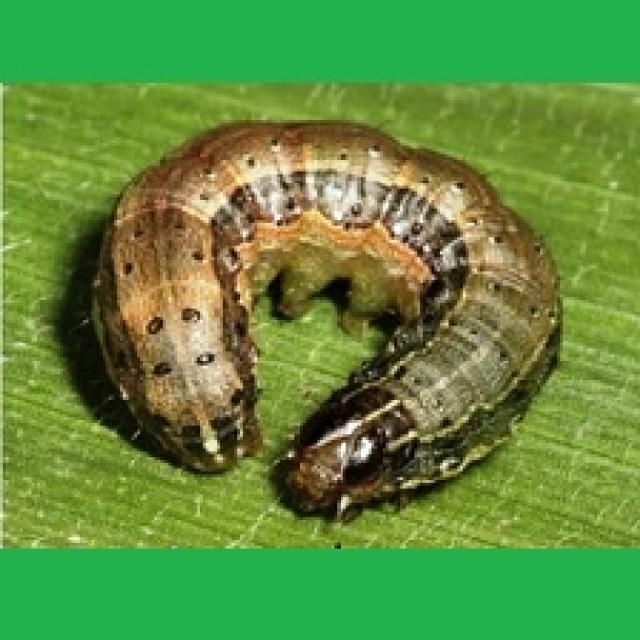worm: (87, 115, 564, 527)
